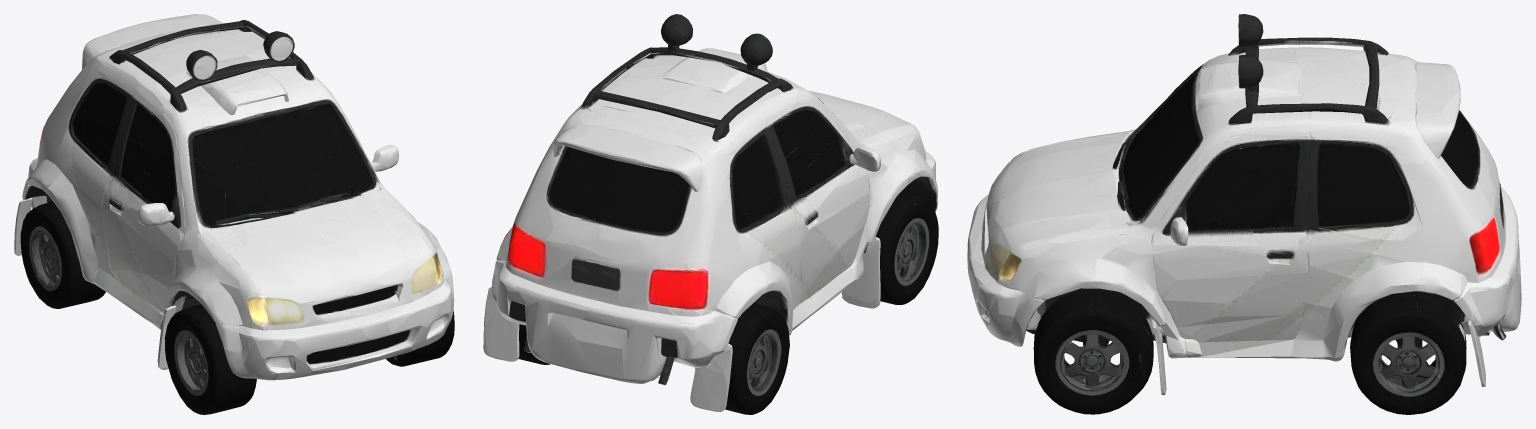
File: rally.glb
3 renders of one model, left to right at view 1: azimuth 30°, elevation 25°; view 2: azimuth 150°, elevation 25°; view 3: azimuth 270°, elevation 25°, orthographic. The views are drawn at different scales.
Parts seen in each view (by area): view 1: rally; view 2: rally; view 3: rally.
Part boxes in pixels (left/top/right/bottom): rally: left=14, top=14, right=454, bottom=414; rally: left=483, top=14, right=938, bottom=414; rally: left=967, top=14, right=1521, bottom=414.
Size of the model in its own units: 2.66 by 2.84 by 4.5.
1 material, 1 textured.
